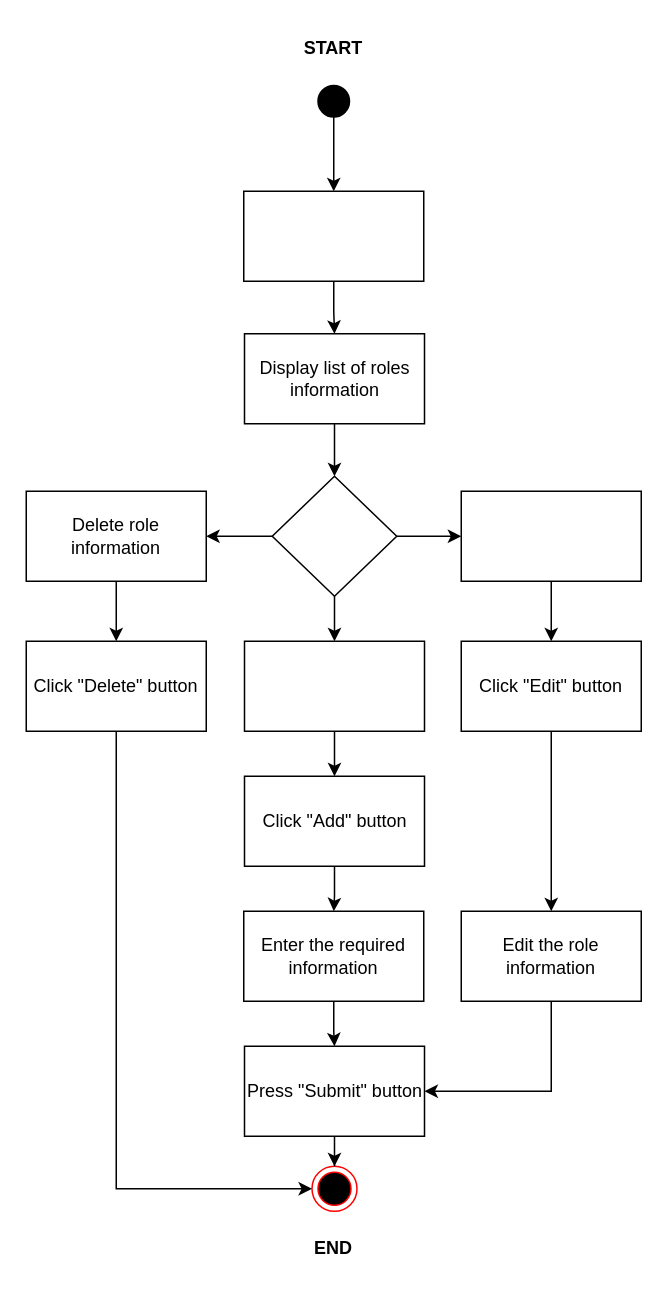
The diagram is 668 pixels wide and 1296 high, and some of its shapes have lost their labels. Each missing label, with the centre of its shape:
Add new role: (333,685)
Choose: (334,535)
Display role management page: (333,235)
Edit role information: (550,535)
